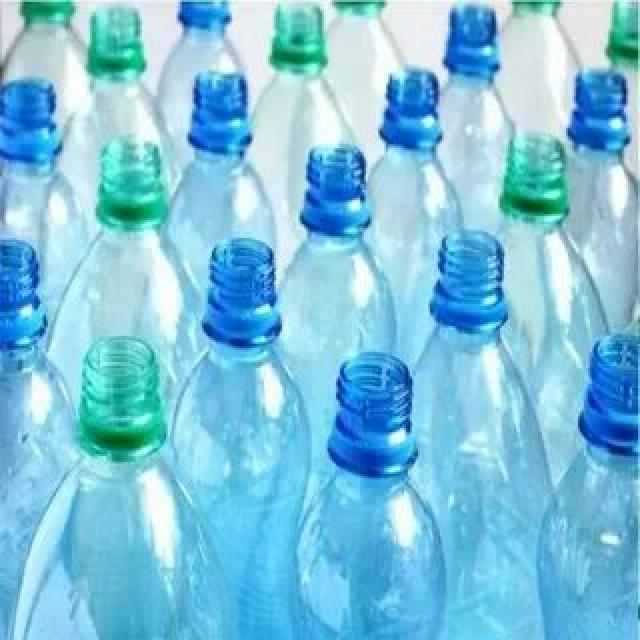blue: (172, 235, 310, 640), (297, 350, 448, 640), (406, 233, 552, 510), (538, 330, 640, 640)
green: (12, 335, 232, 640)
